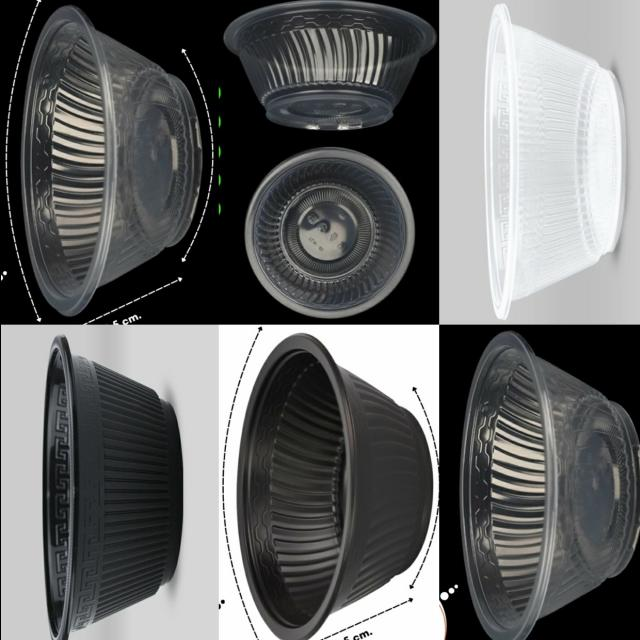plastik: (236, 333, 431, 640), (21, 5, 201, 317), (460, 331, 640, 640), (483, 4, 624, 319), (43, 336, 181, 640), (244, 147, 413, 318), (223, 0, 435, 131)
